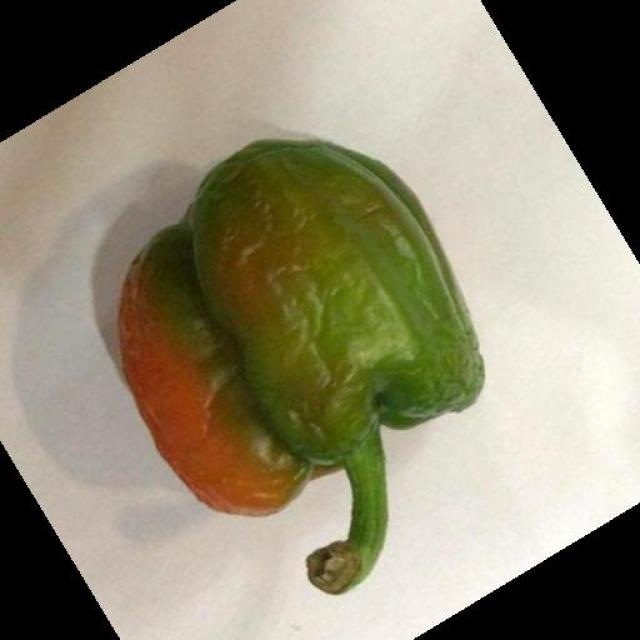Stale_Capsicum: (124, 128, 459, 573)
